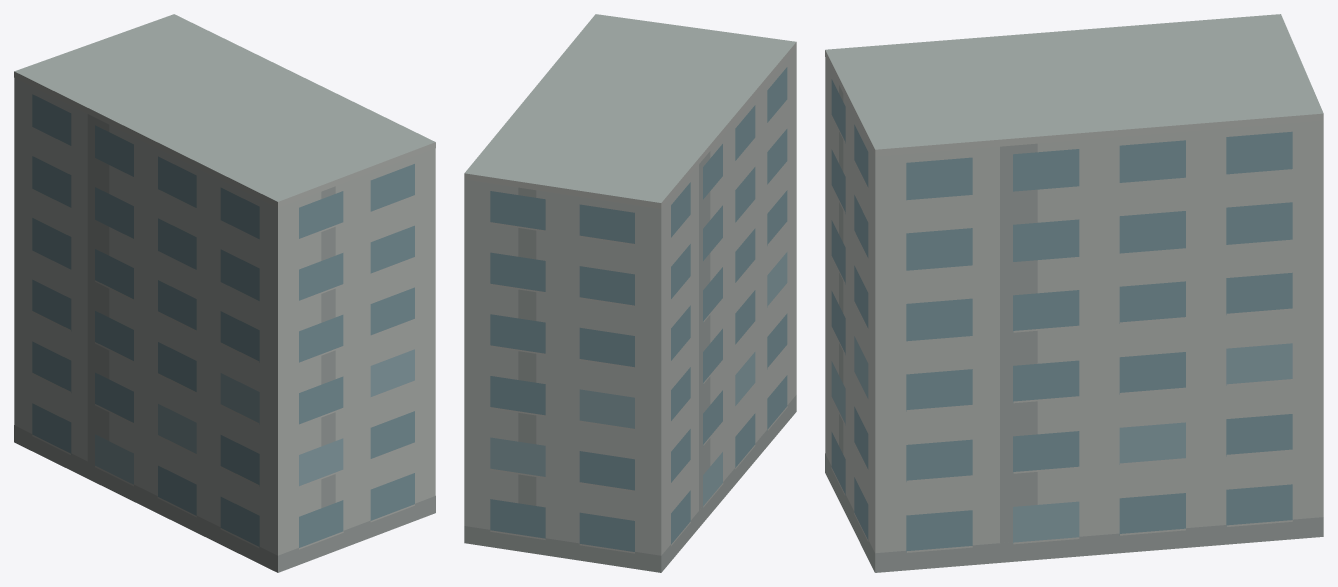
The model's file is survey-upis-32947145.glb.
3 views of the same model, side by side, from view 1: azimuth 30°, elevation 25°; view 2: azimuth 150°, elevation 25°; view 3: azimuth 270°, elevation 25° (orthographic). The views are drawn at different scales.
Parts seen in each view (by area): view 1: survey-upis-32947145.tmp; view 2: survey-upis-32947145.tmp; view 3: survey-upis-32947145.tmp.
Boxes of the visible parts, left/top/right/bottom form: survey-upis-32947145.tmp: left=14, top=14, right=435, bottom=572; survey-upis-32947145.tmp: left=464, top=14, right=796, bottom=572; survey-upis-32947145.tmp: left=825, top=14, right=1323, bottom=572.
Bounding box in the file's own units: 10.12 × 14.7 × 15.71.
